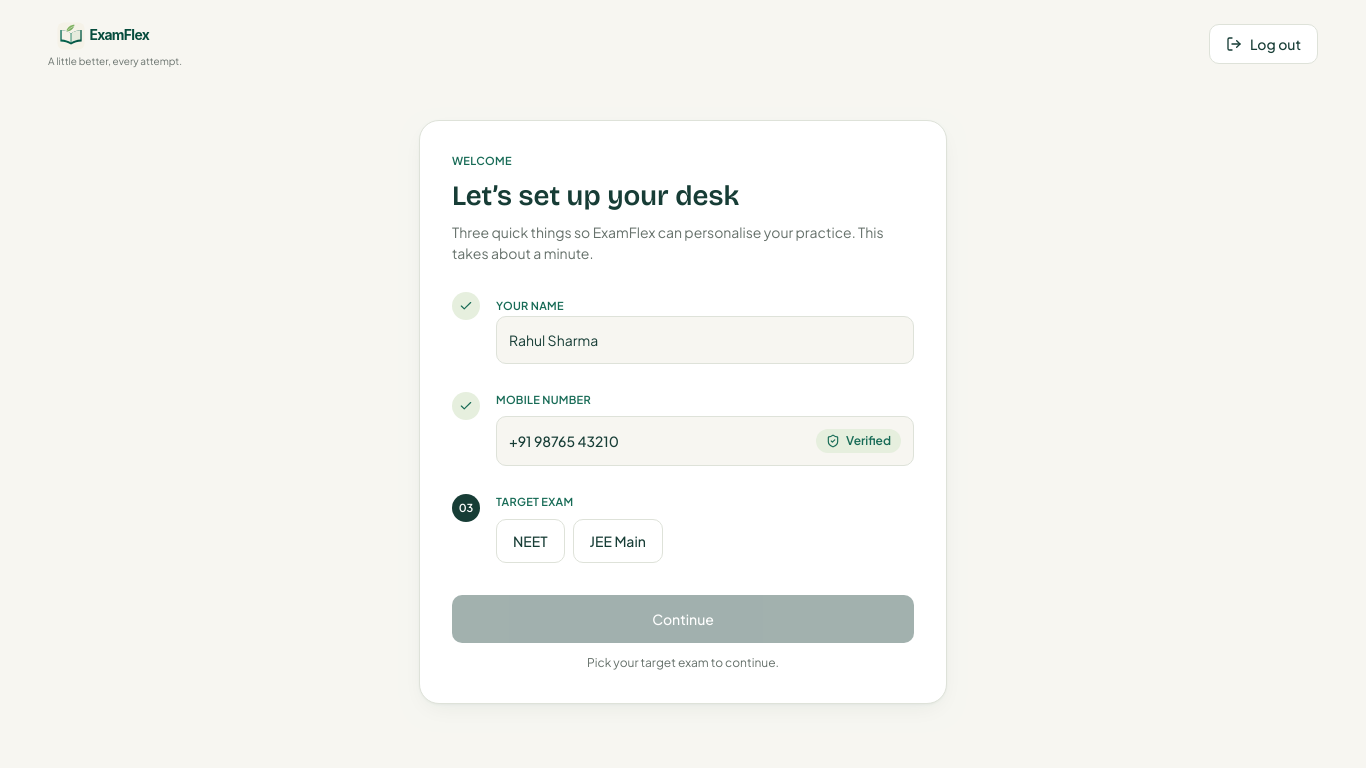
Test: OnboardingScreen › name › rejects A
Replace the text in the field labelled "Your name" with "A": (705, 340) left=496, top=316, right=914, bottom=364
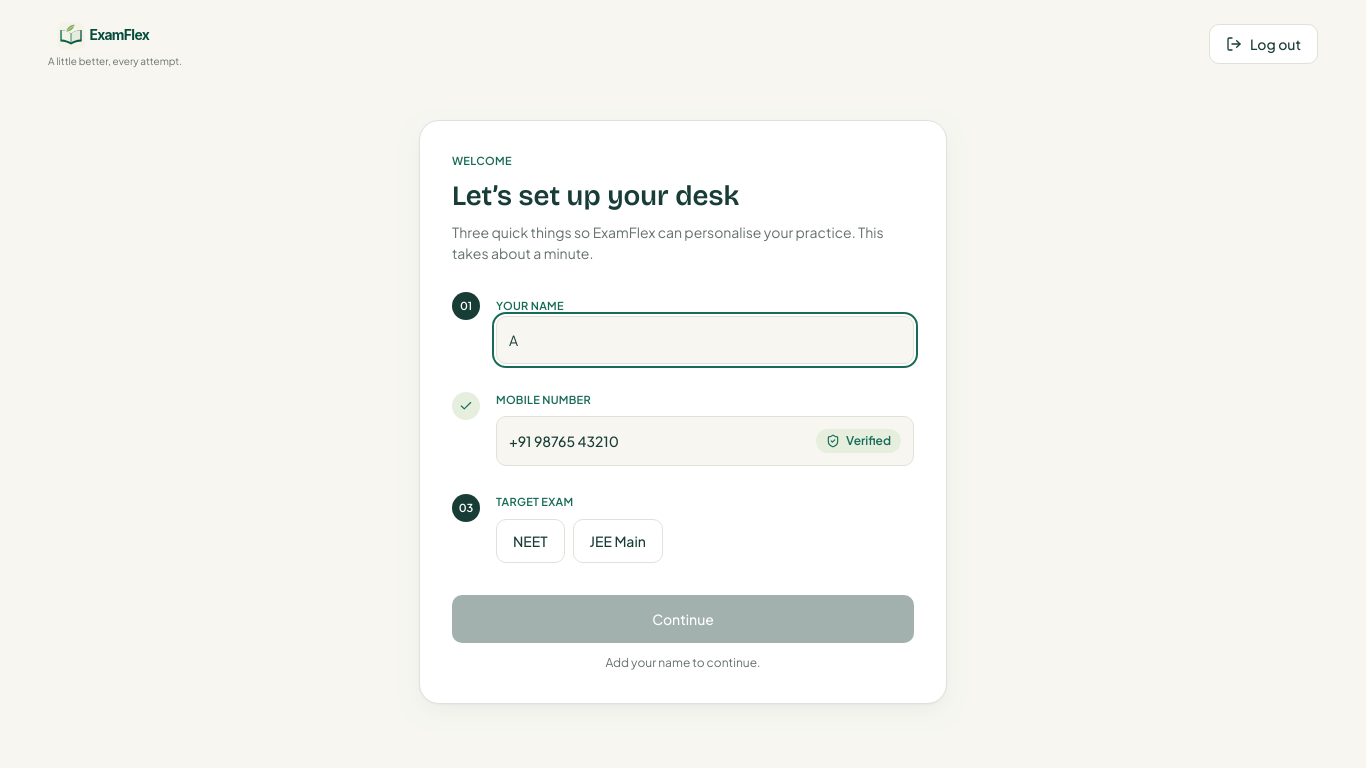
Press Tab
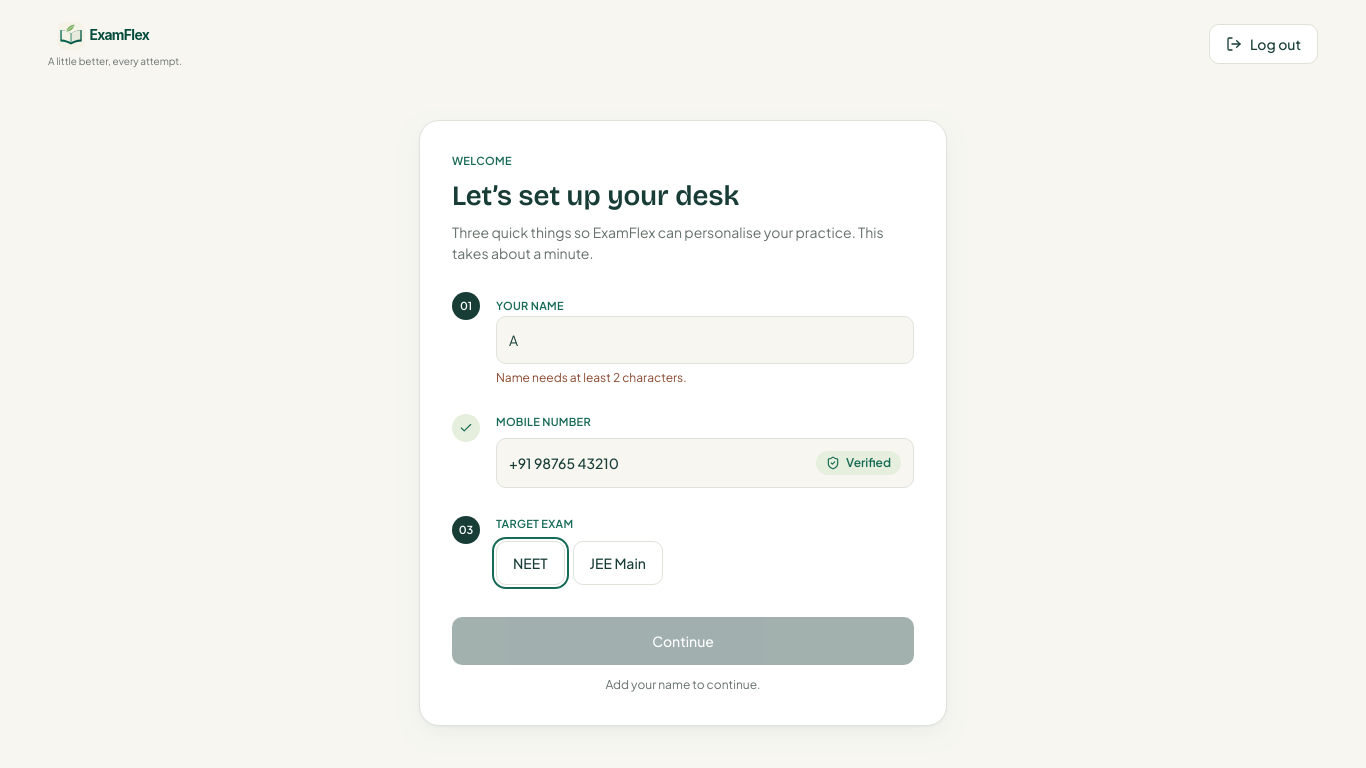
Now the message shows "at least 2 characters", box left=496, top=370, right=687, bottom=385
